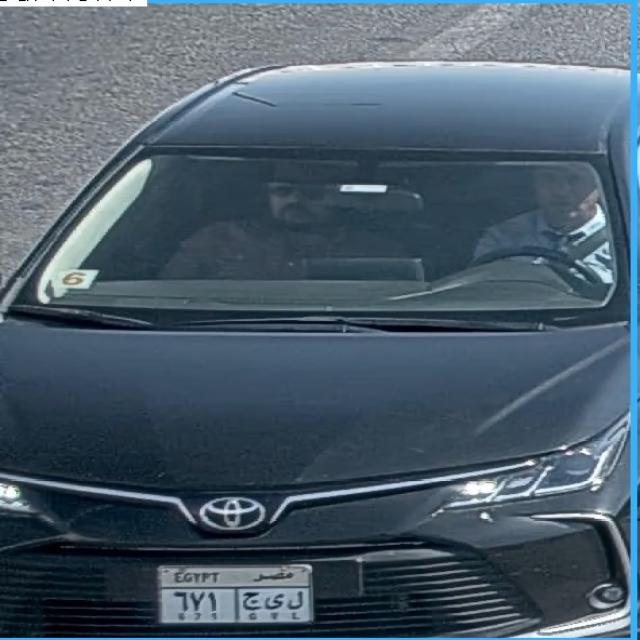windshield: (11, 156, 622, 316)
